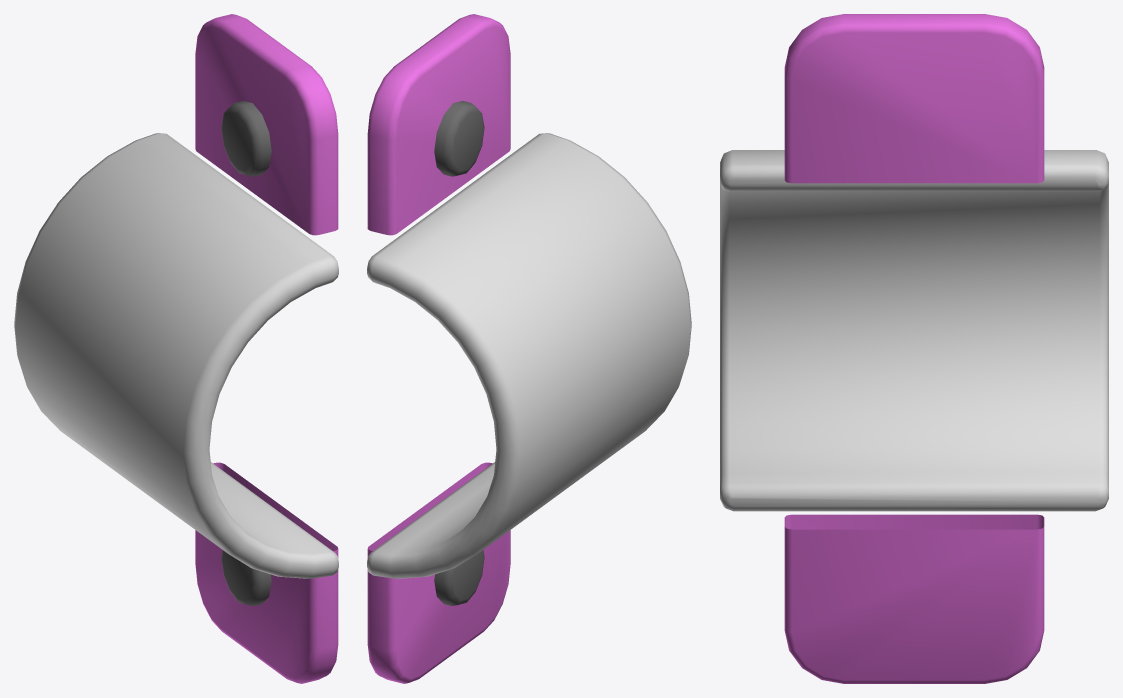
The model's file is metal2.fbx.
3 views of the same model, side by side, from view 1: azimuth 30°, elevation 25°; view 2: azimuth 150°, elevation 25°; view 3: azimuth 270°, elevation 25° (orthographic). The views are drawn at different scales.
Parts seen in each view (by area): view 1: Cylinder.006; view 2: Cylinder.006; view 3: Cylinder.006.
Part boxes in pixels (x1,y1,x2,y2): Cylinder.006: (14, 14, 338, 683); Cylinder.006: (367, 14, 691, 683); Cylinder.006: (720, 14, 1108, 683).
Bounding box in the file's own units: 39.01 × 125 × 66.76.
